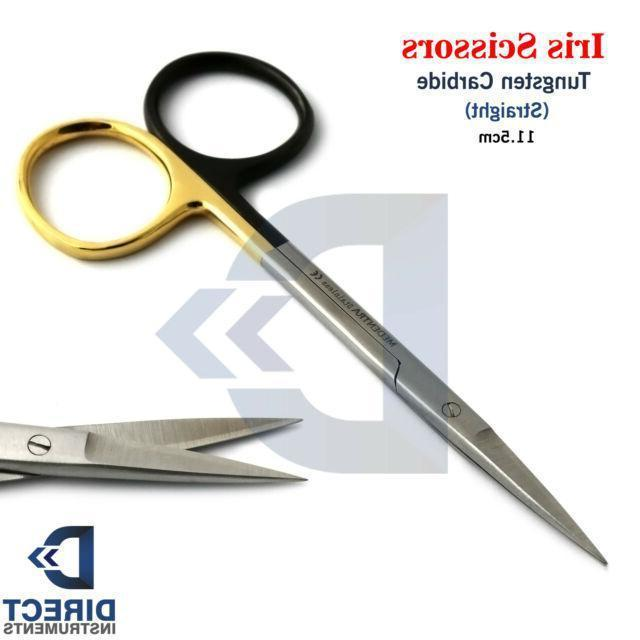Iris: (10, 47, 611, 569), (0, 413, 311, 493)
